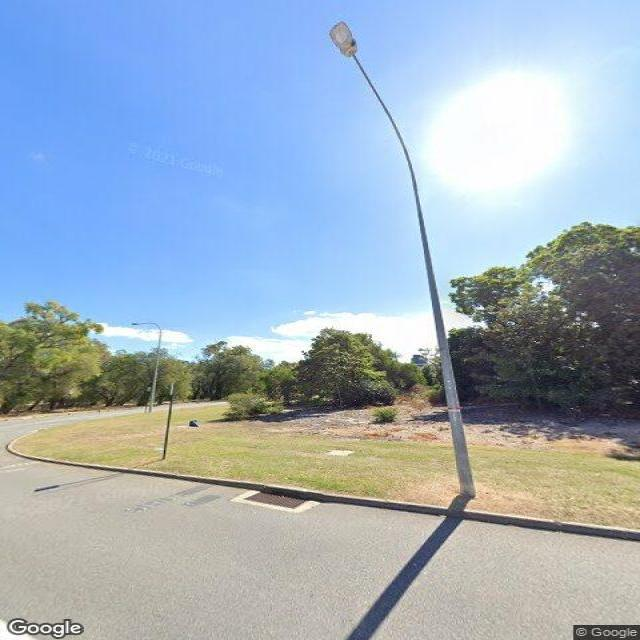steel-pole: (408, 163, 477, 500), (148, 330, 164, 410)
streetlight: (328, 20, 414, 180), (128, 321, 162, 335)
